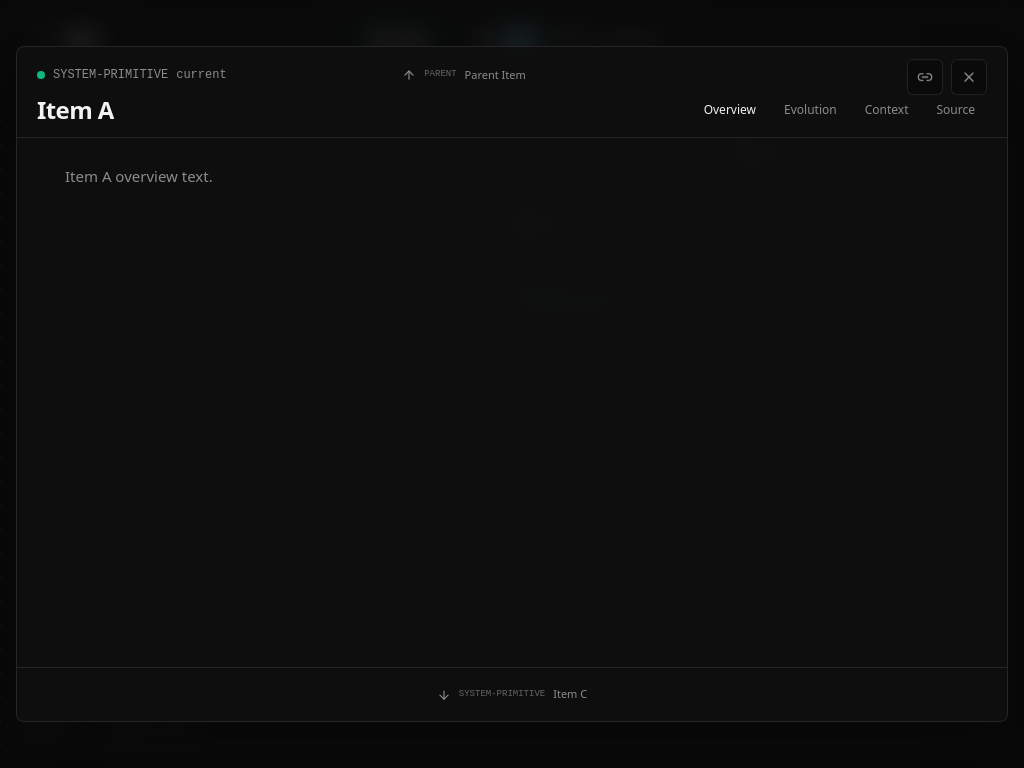
Scenario: PlanWorkstreamExplorer › navigates to the parent and direct children inside the same modal
Expected: the text "system-primitive" next to "Item C" is shown, [459,689,545,699]
Click the link with aria-label "Child node: Item C" at coordinates (512, 694), box [437,686,587,702]
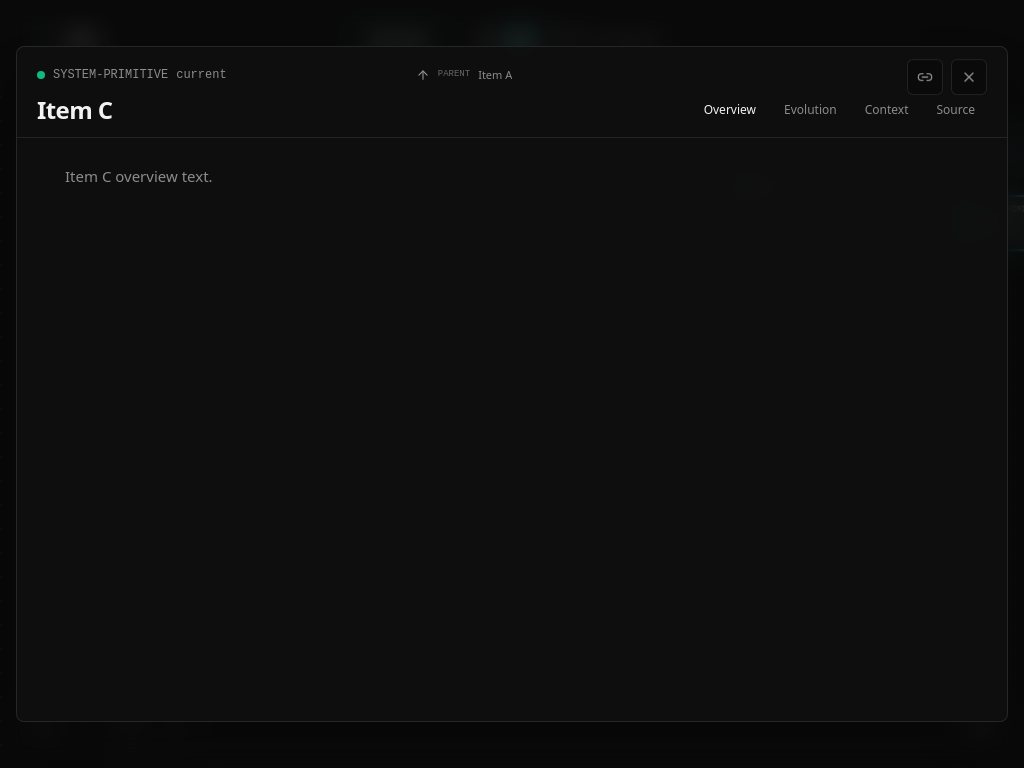
Result: the heading "Item C" is shown at [37,93,112,126]
Click the link with aria-label "Parent node: Item A" at coordinates (464, 74), box [416,67,512,82]
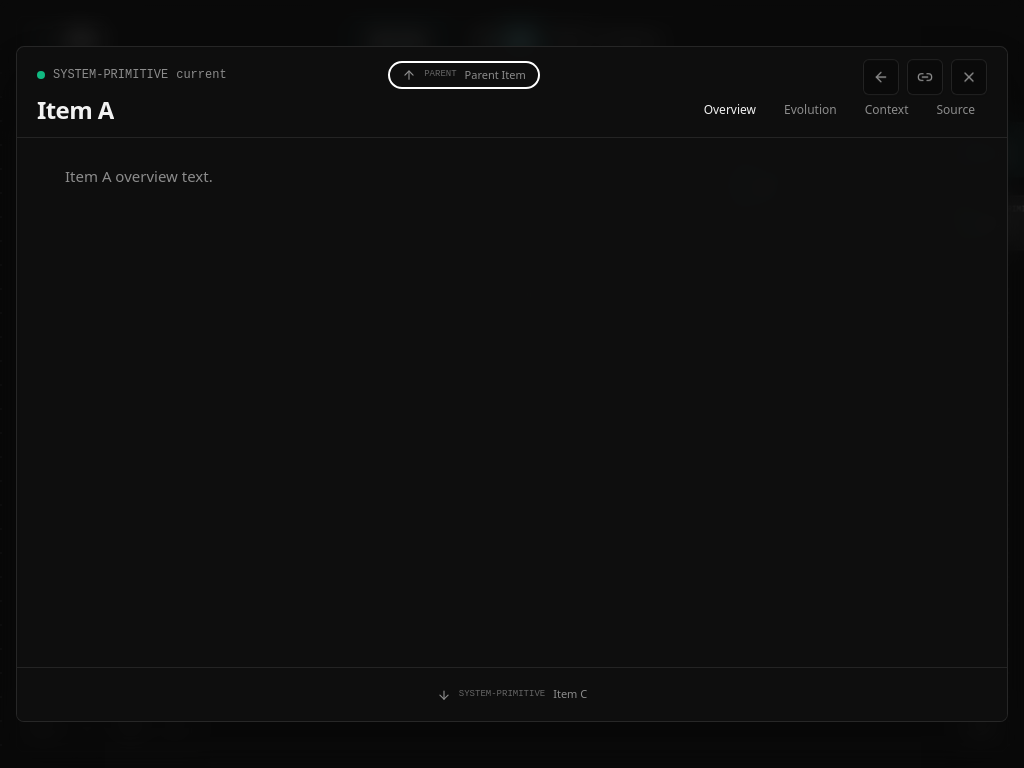
Result: the heading "Item A" is shown at [37,93,114,126]
